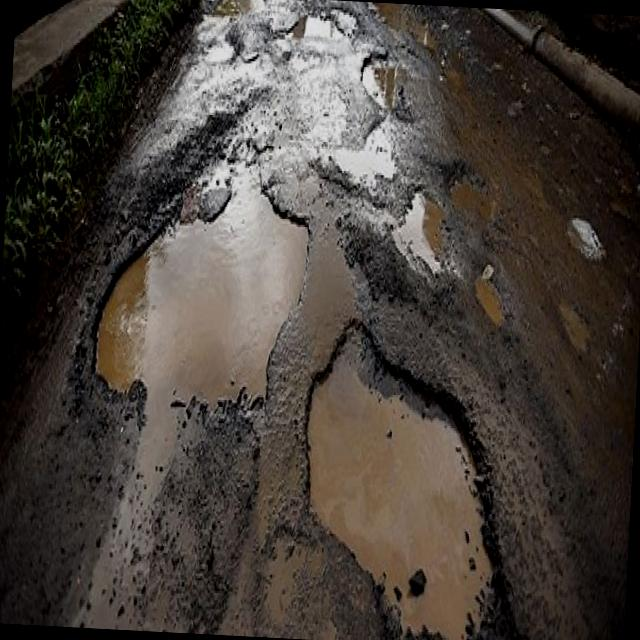bad-road: (293, 312, 516, 640), (90, 142, 314, 411), (389, 182, 447, 280), (358, 48, 408, 114), (447, 163, 497, 222), (282, 8, 348, 43), (470, 270, 512, 322), (366, 2, 404, 26), (213, 0, 266, 15)
